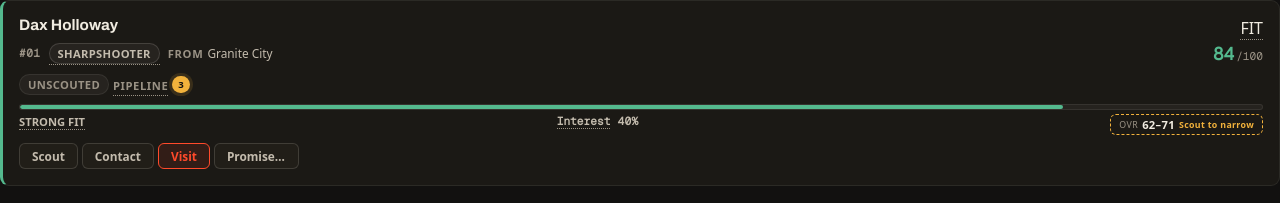
Test case: ProspectCard fog + interaction behaviors › #65: a refused action says "action not spent" and still refetches the board
What coordinates should you click on to do the following:
click the button "Scout"
I would click on:
 (48, 156)
Its box is [19,143,78,169].
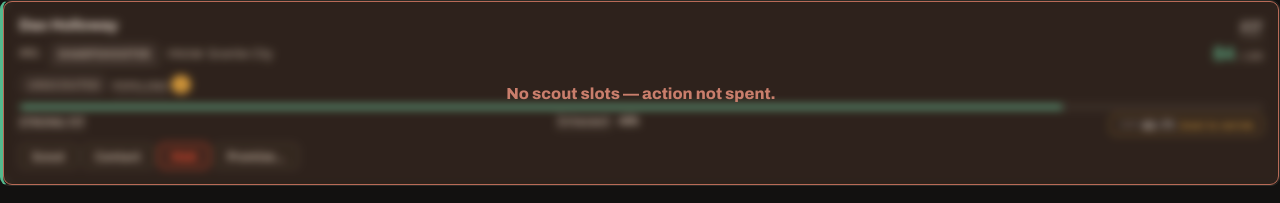
Now the text "No scout slots — action not spent." is shown
